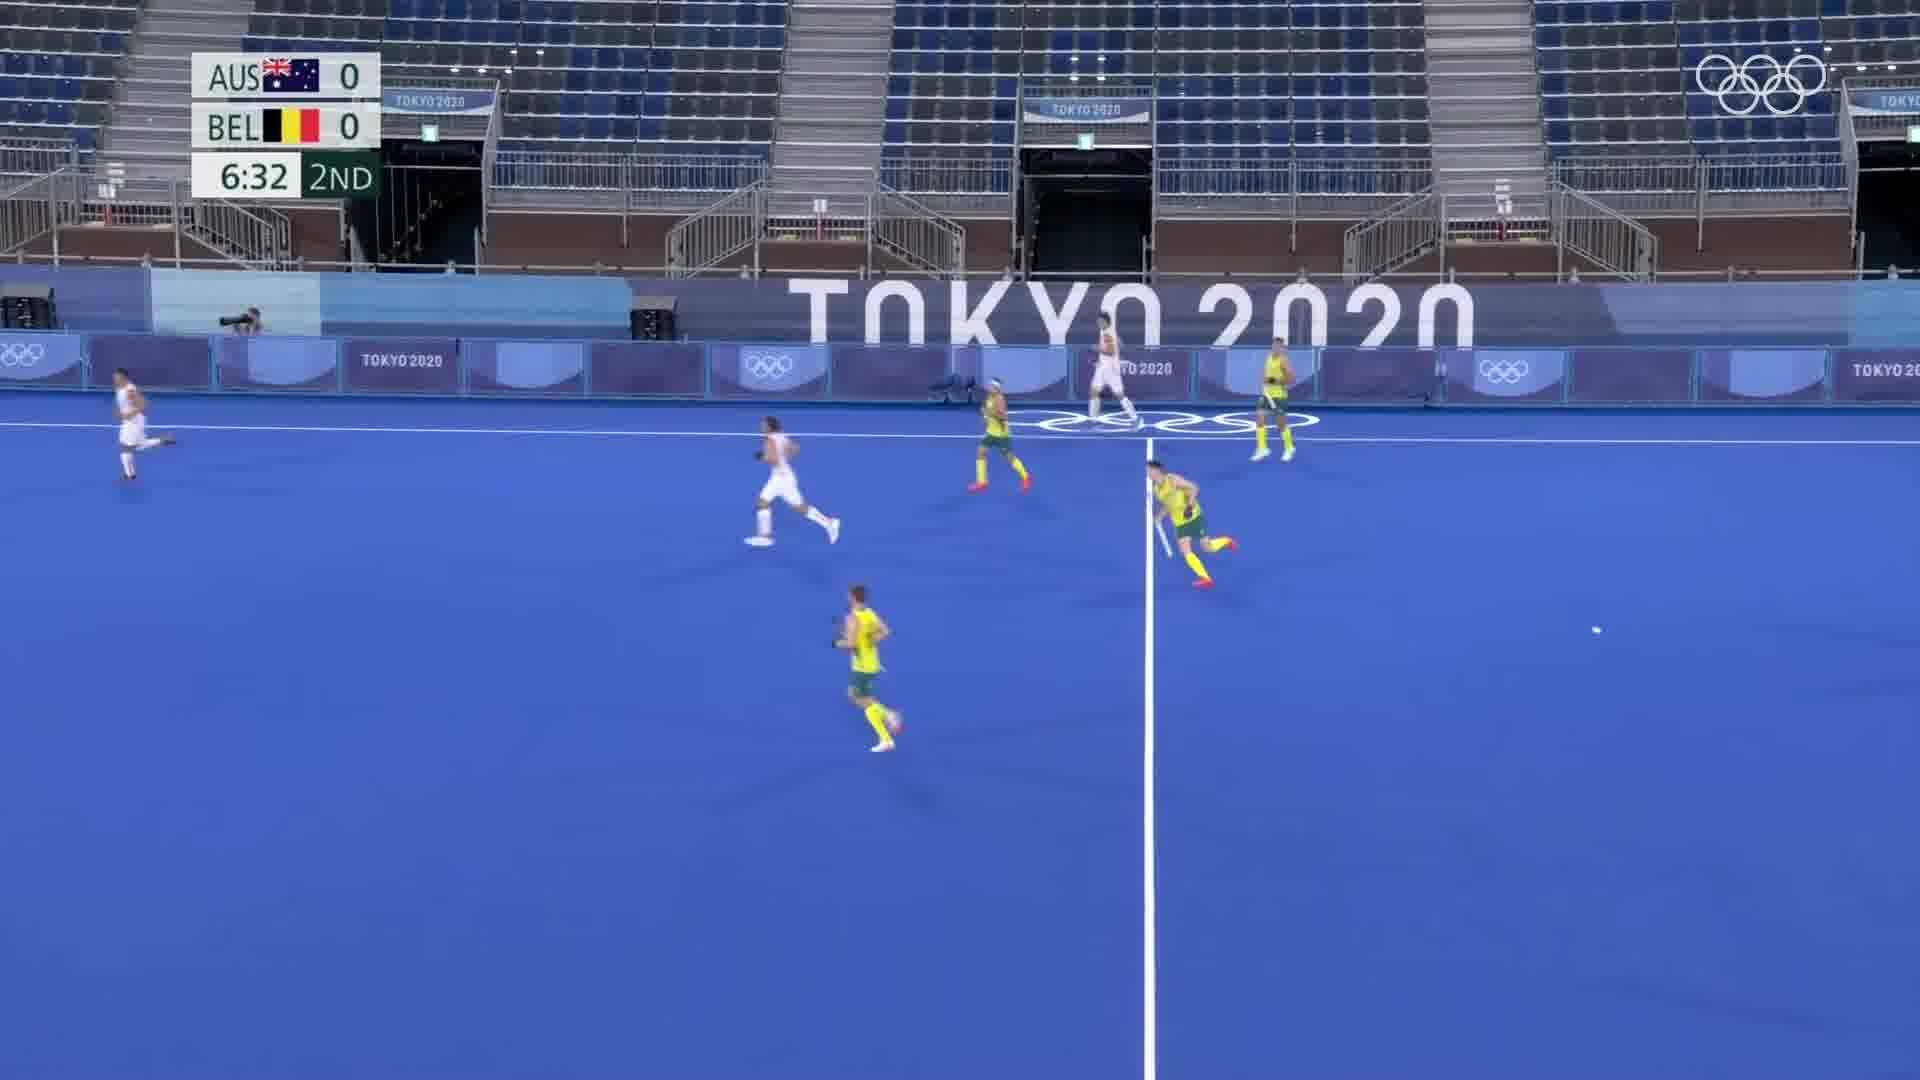ball: (1588, 622, 1608, 643)
